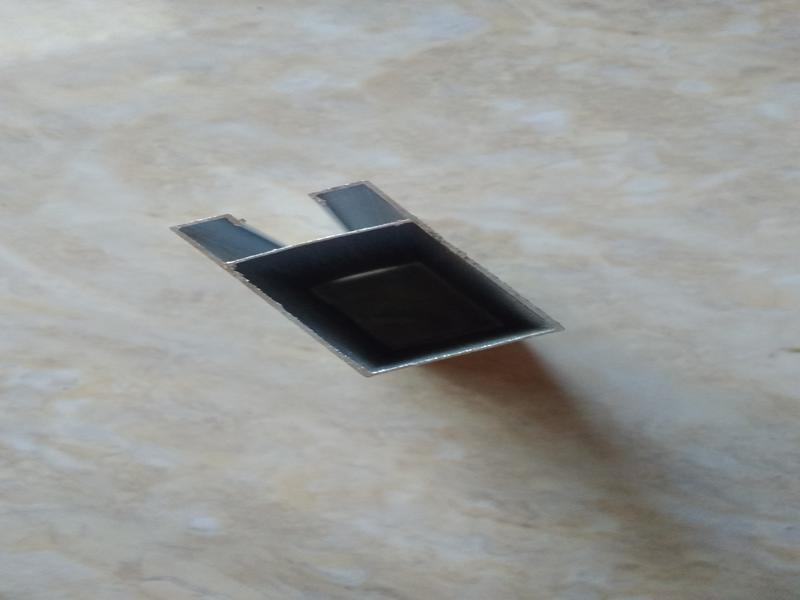Aluminium_1: (122, 157, 610, 412)
